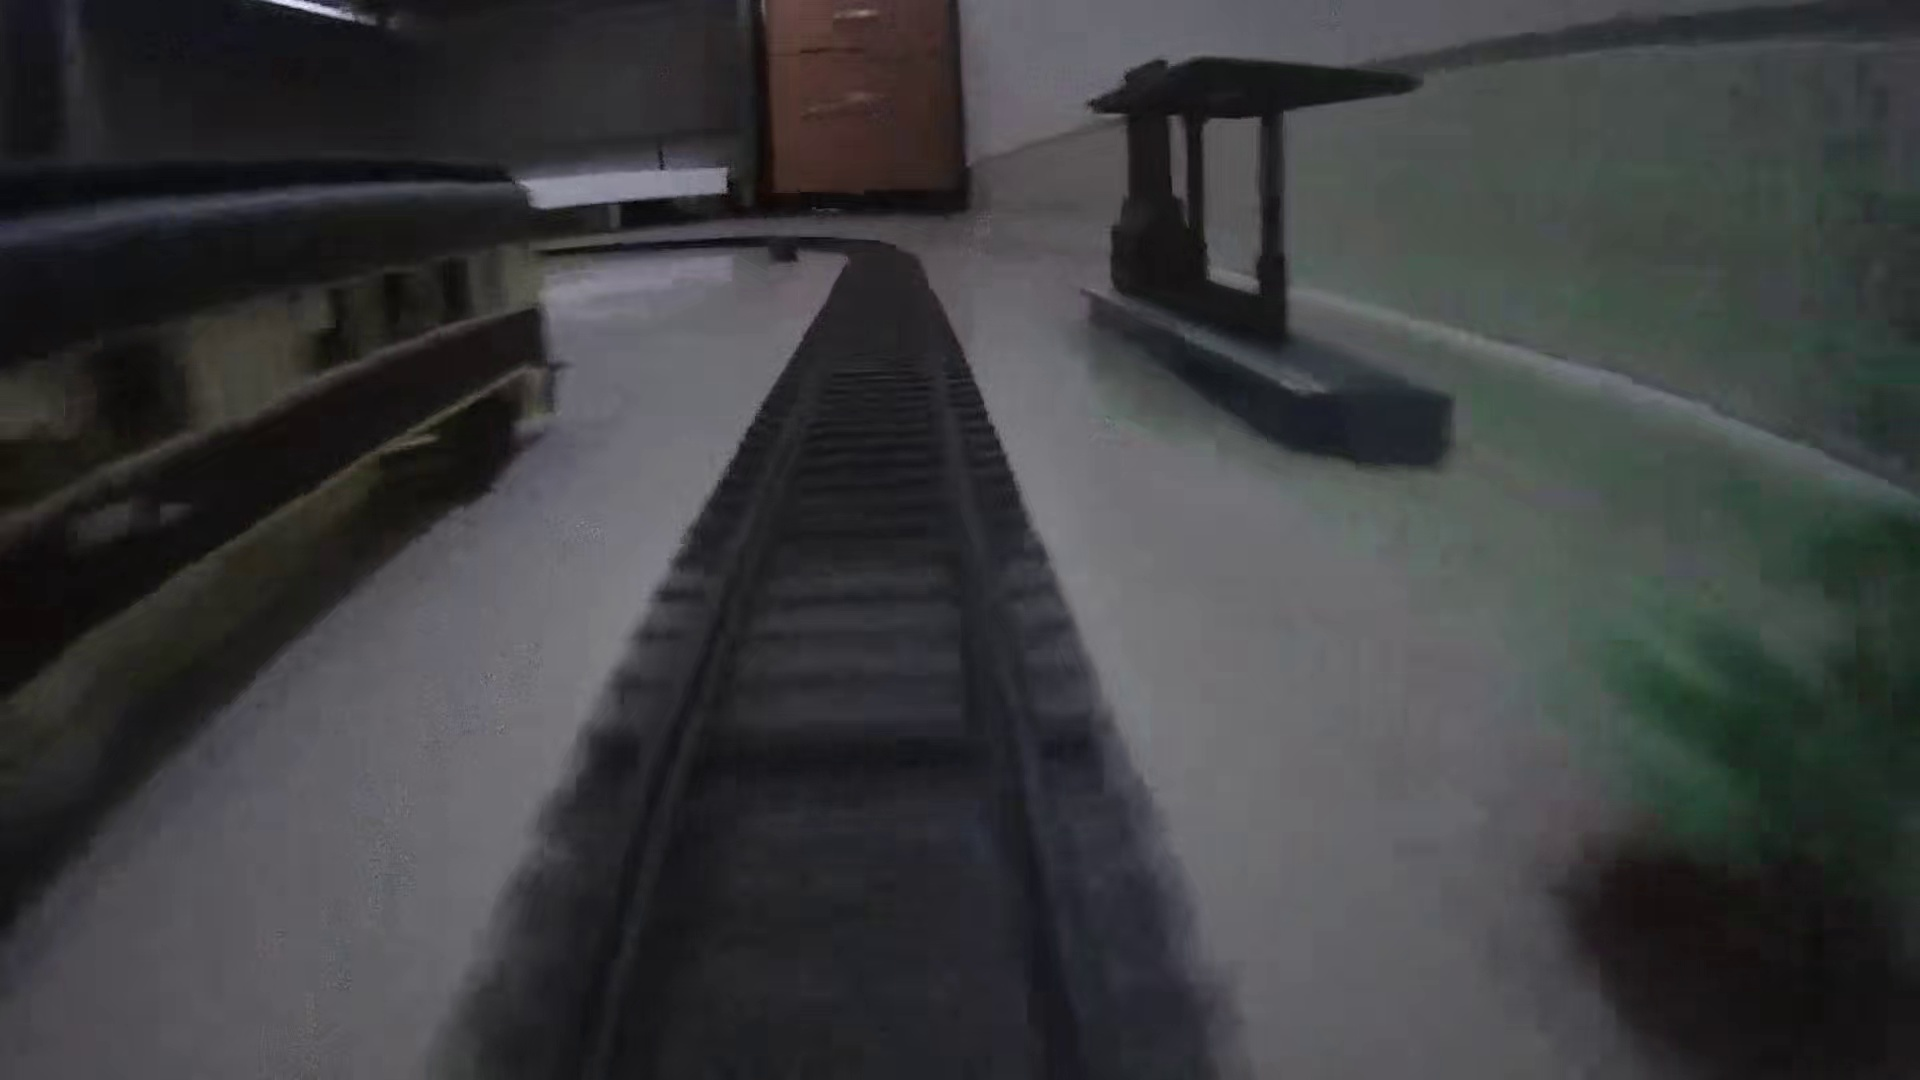box: (766, 231, 801, 268)
